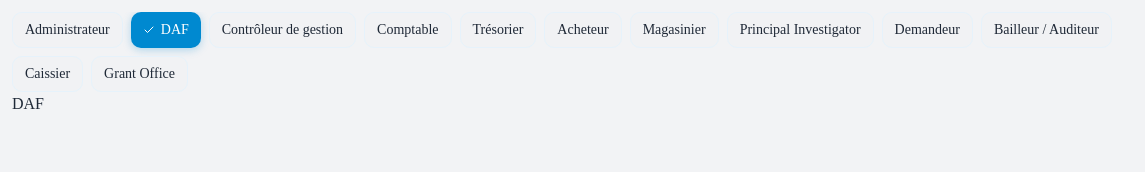
Test: AdminUserRoleSelector › toggle ajoute / retire un rôle
The image size is (1145, 172).
Click the button with test id "role-COMPTABLE".
click(408, 30)  # box [364,12,452,48]
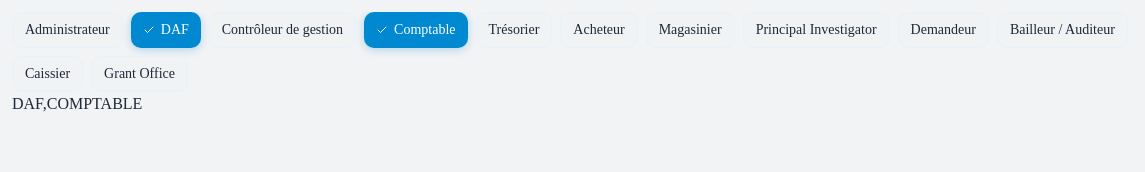
Expected: the text with test id "harness-value" reads "DAF,COMPTABLE", [12,95,142,112]
Click the button with test id "role-DAF".
click(166, 30)  # box [131,12,201,48]
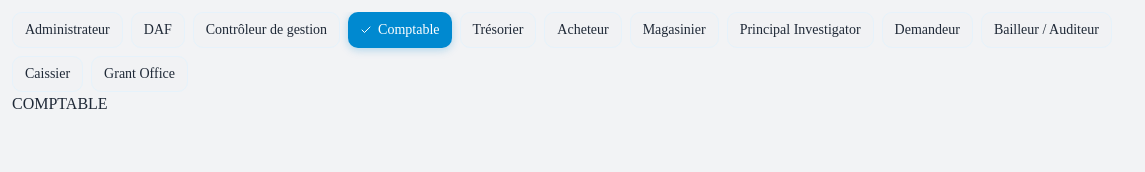
Expected: the text with test id "harness-value" reads "COMPTABLE", [12,95,108,112]
